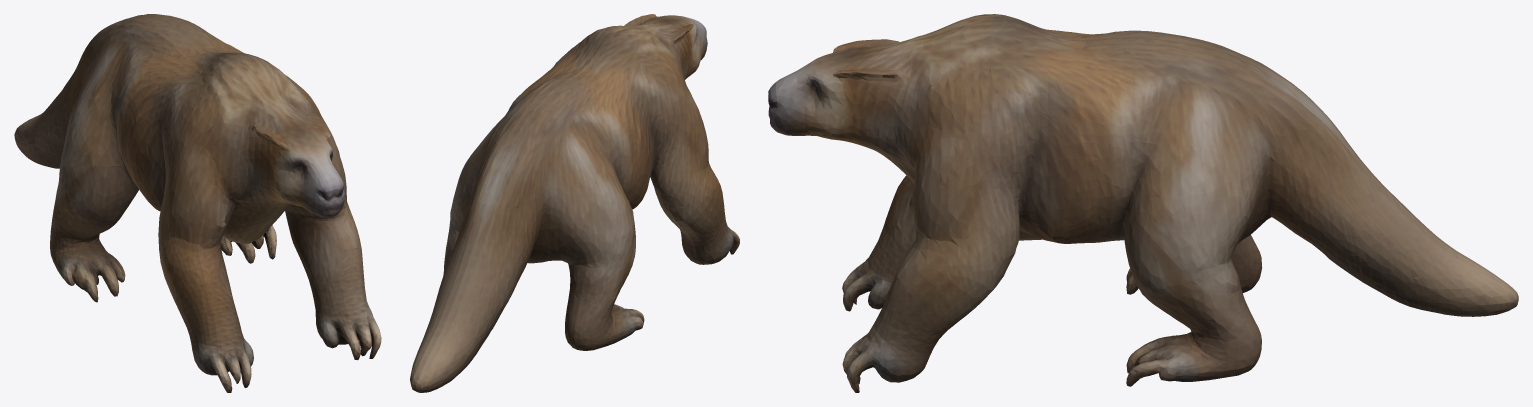
3 views of the same model, side by side, from view 1: azimuth 30°, elevation 25°; view 2: azimuth 150°, elevation 25°; view 3: azimuth 270°, elevation 25° (orthographic). The views are drawn at different scales.
Parts seen in each view (by area): view 1: world; view 2: world; view 3: world.
Boxes of the visible parts, left/top/right/bottom form: world: left=14, top=14, right=381, bottom=392; world: left=410, top=14, right=739, bottom=392; world: left=768, top=14, right=1518, bottom=392.
Size of the model in its own units: 0.3837 by 0.4852 by 1.
1 material, 1 textured.
